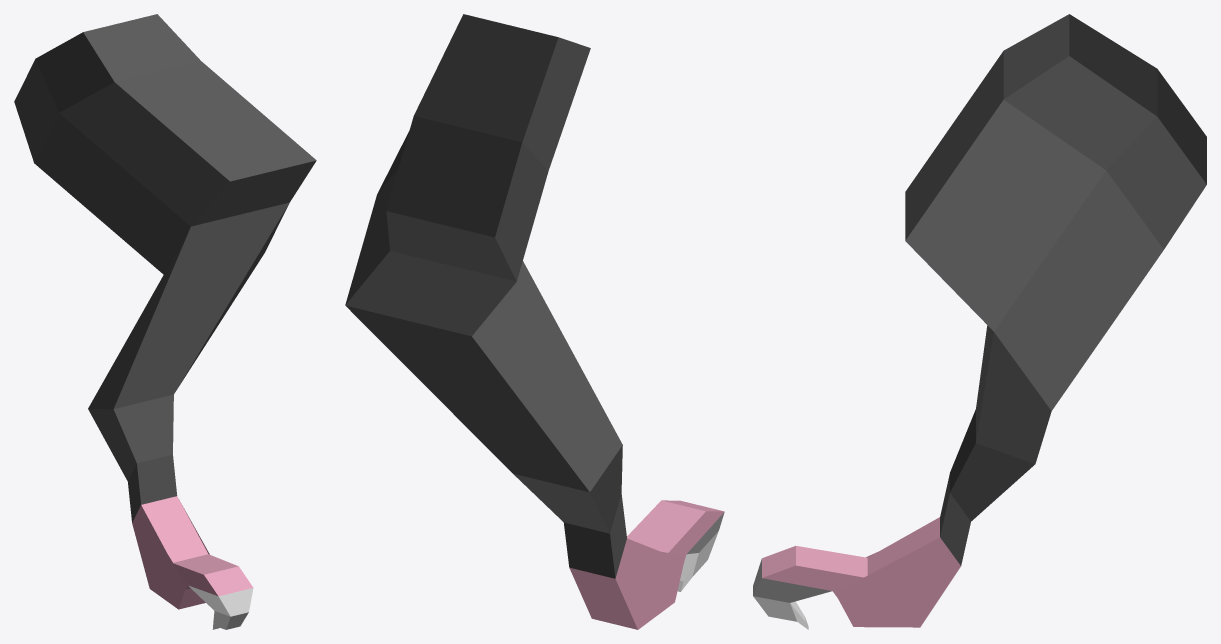
Rendered from PataDiantera.fbx.
The picture shows the model from 3 angles, left to right: view 1: azimuth 30°, elevation 25°; view 2: azimuth 150°, elevation 25°; view 3: azimuth 270°, elevation 25°; orthographic projection. The views are drawn at different scales.
Parts seen in each view (by area): view 1: Cube; view 2: Cube; view 3: Cube.
Boxes of the visible parts, x1,y1,x2,y2 form: Cube: (14, 14, 316, 629); Cube: (345, 14, 724, 629); Cube: (753, 14, 1206, 629).
Size of the model in its own units: 88.23 by 238 by 162.
